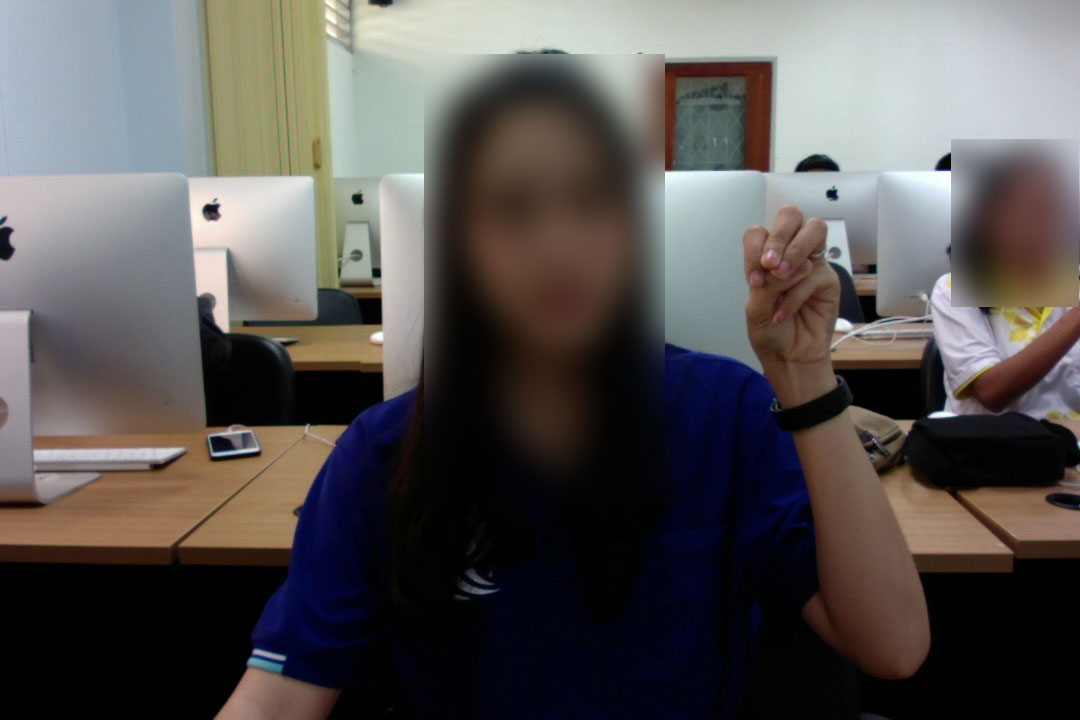mor: (733, 197, 845, 376)
